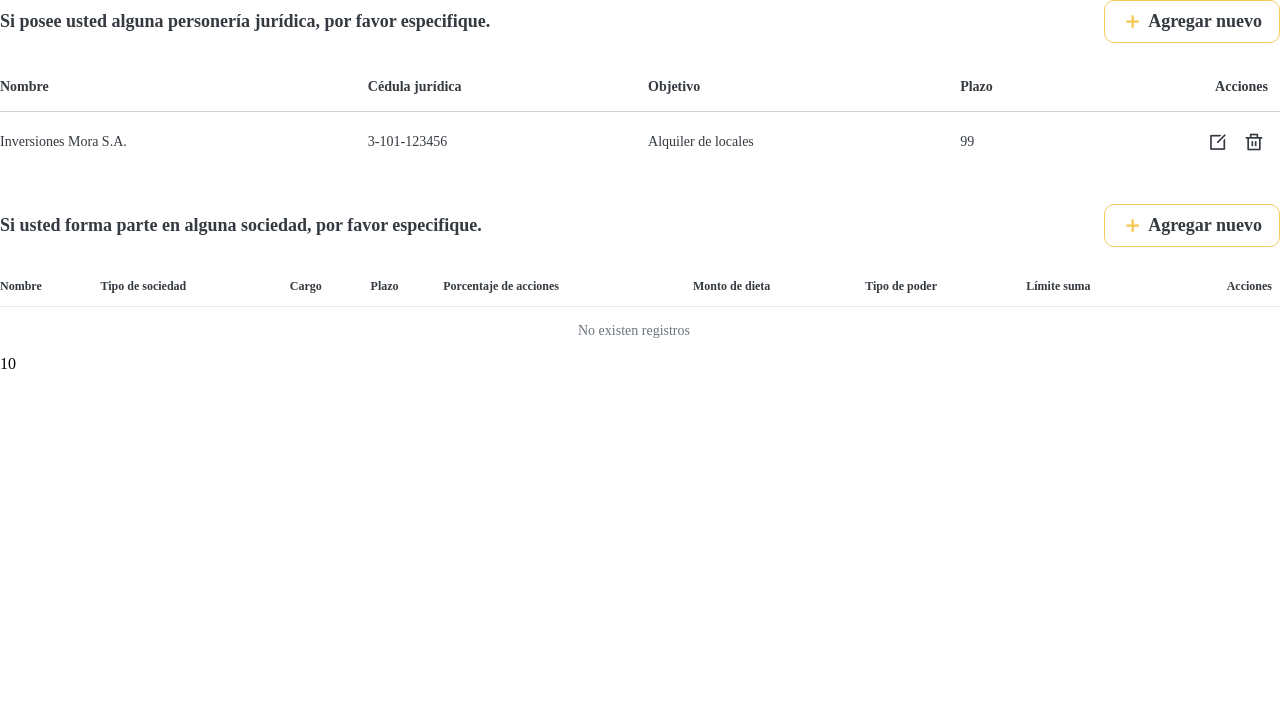
Scenario: LegalEntities (paso 10) › edits a legal entity prefilled with its data
Click the button named "Editar personería Inversiones Mora S.A.". click: (1218, 142)
box: [1204, 128, 1232, 156]
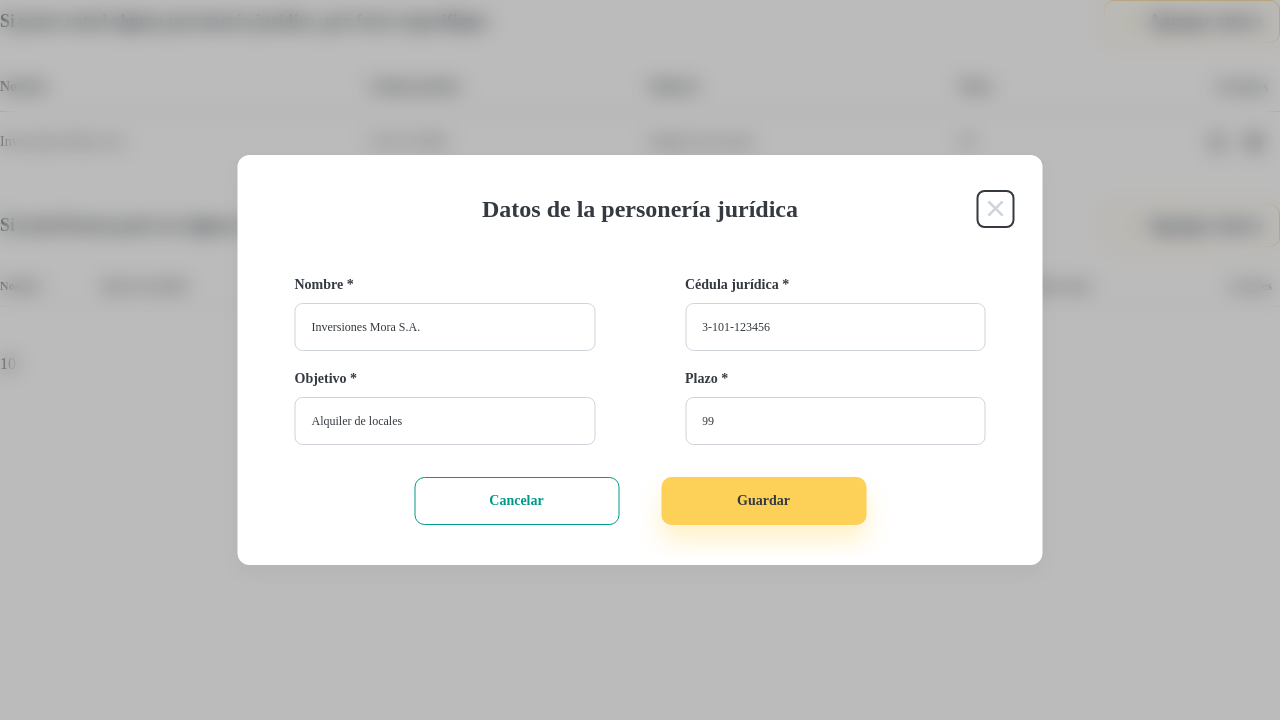
Now the field labelled "Cédula jurídica *" holds "3-101-123456", box [685, 303, 986, 351]
Now the field labelled "Plazo *" holds "99"
Replace the text in the field labelled "Plazo *" with "30". click: (835, 421)
box: [685, 397, 986, 445]
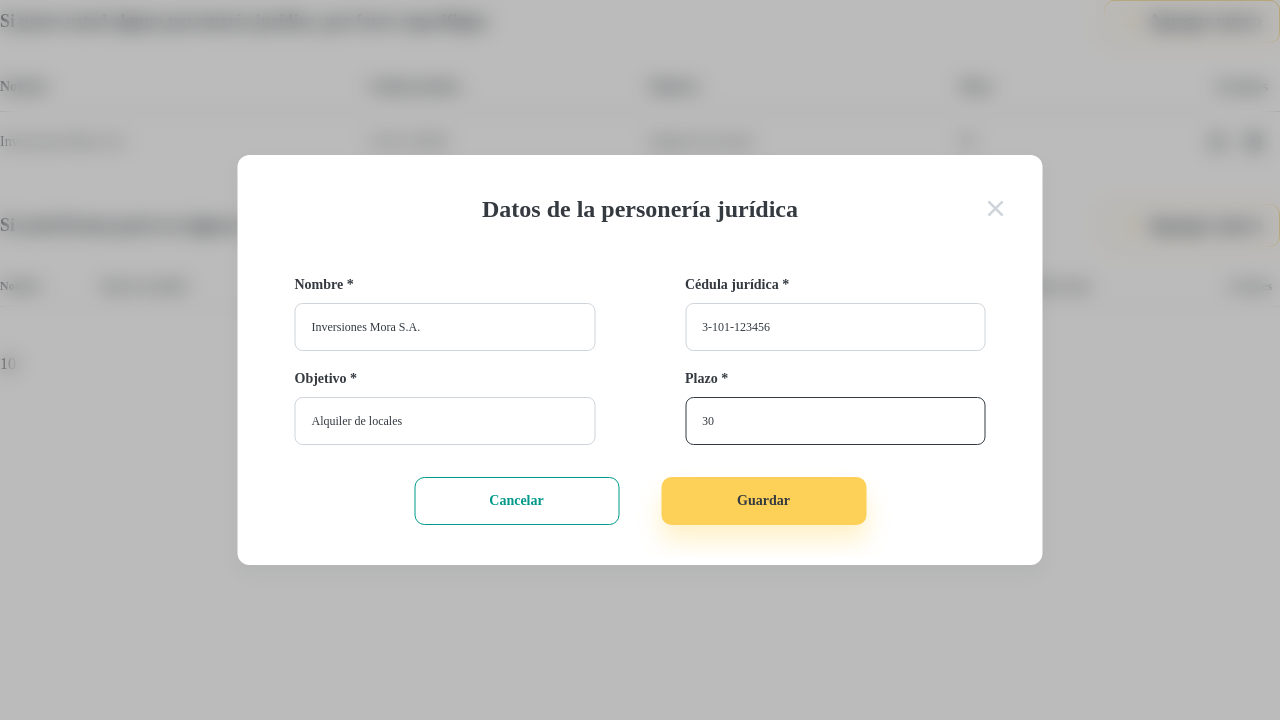
Click the button "Guardar". click: (764, 501)
box: [661, 477, 866, 525]
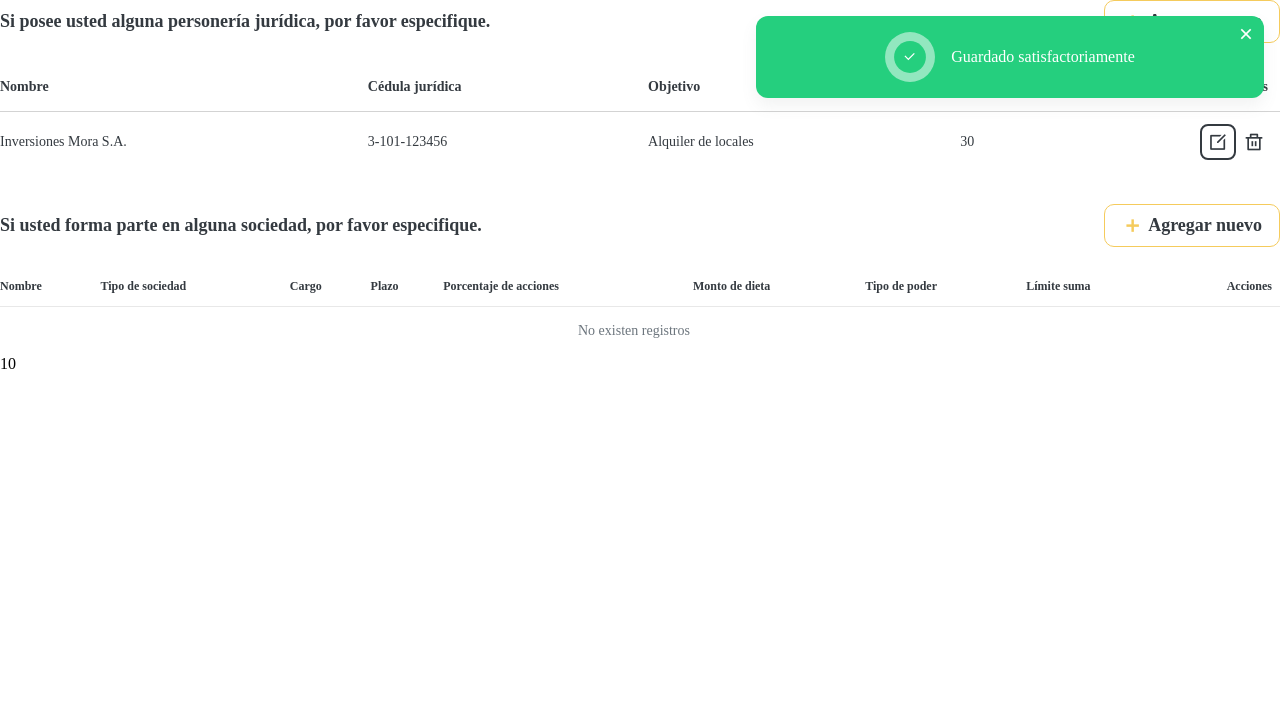
Expected: the text with test id "count" reads "1", [0, 355, 8, 372]
Now the text "30" is shown, box [960, 112, 1079, 172]
Now the text "99" is gone
